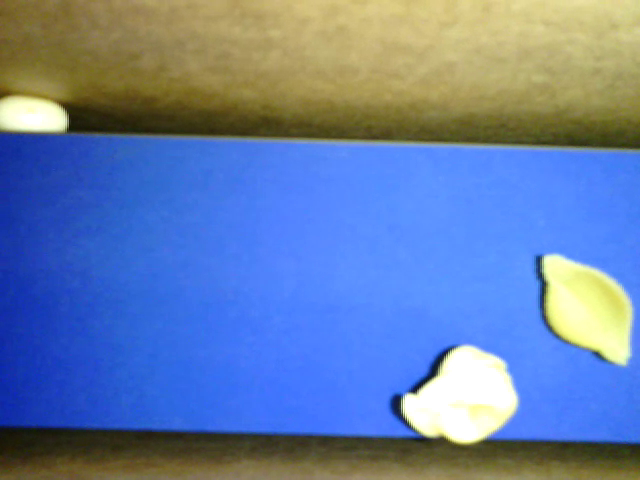shell: (541, 253, 633, 367)
tortellini: (400, 346, 517, 445)
